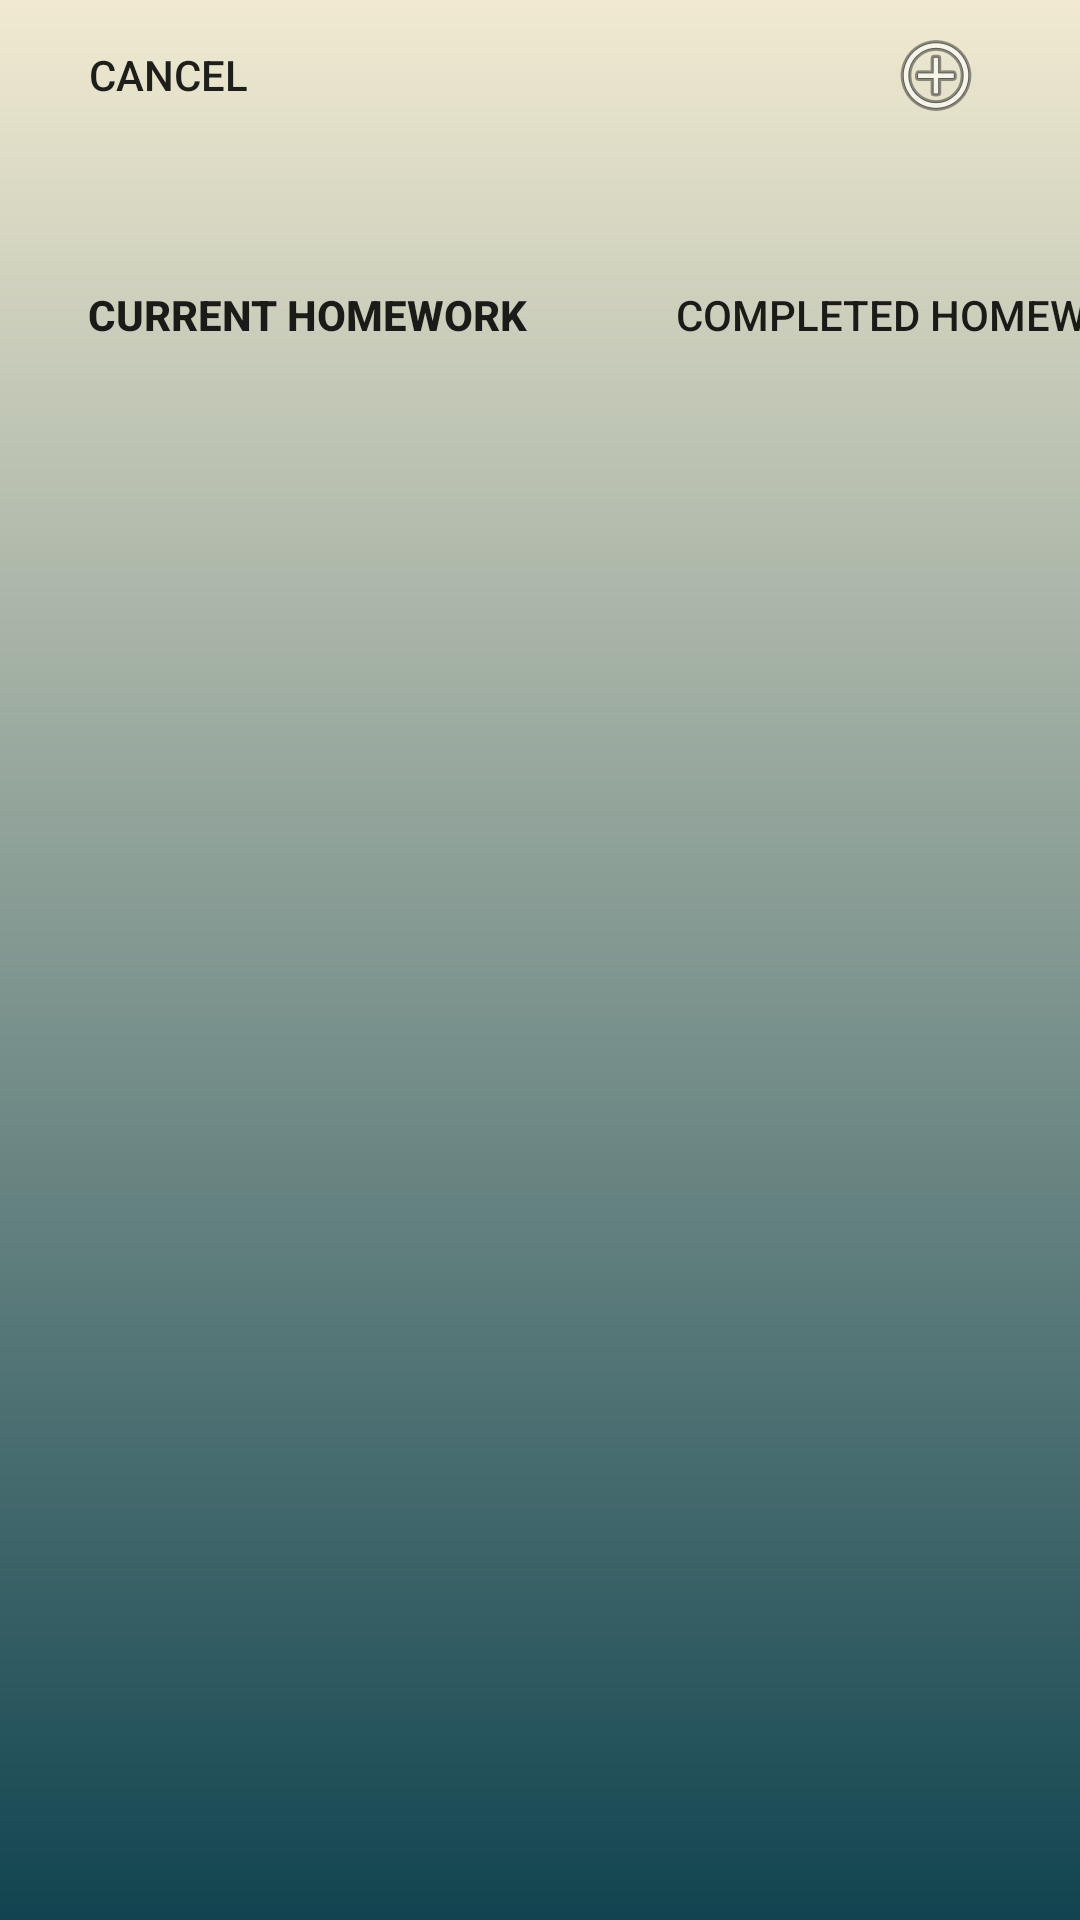

Named icons in this screenshot (1080×1920) and their bounding boxes, box=[x1, y1, x2, y2]:
this is how you can quick add a homework assignment: box=[900, 40, 972, 111]
